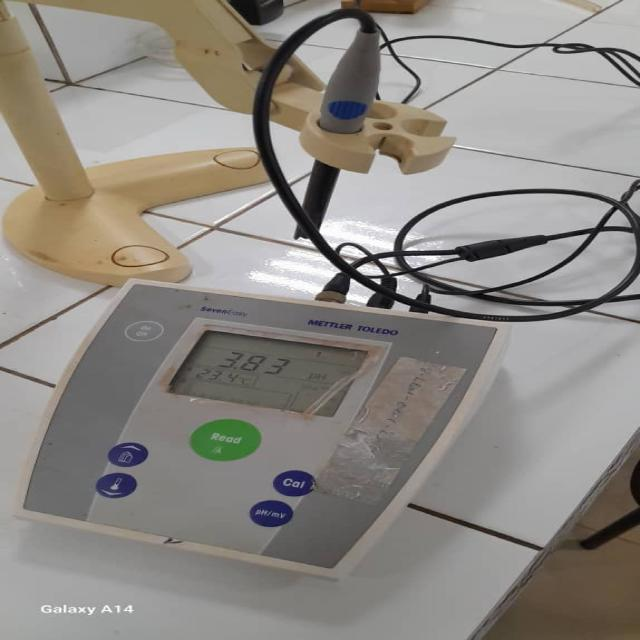PH meter: (0, 282, 514, 574)
